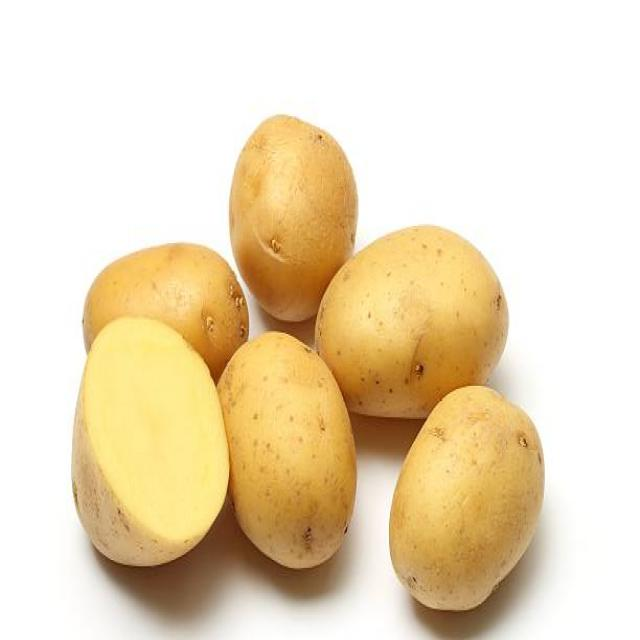Potato: (61, 316, 226, 570), (388, 382, 546, 616), (324, 218, 510, 388), (231, 330, 348, 570), (227, 105, 358, 275), (76, 236, 242, 333)
